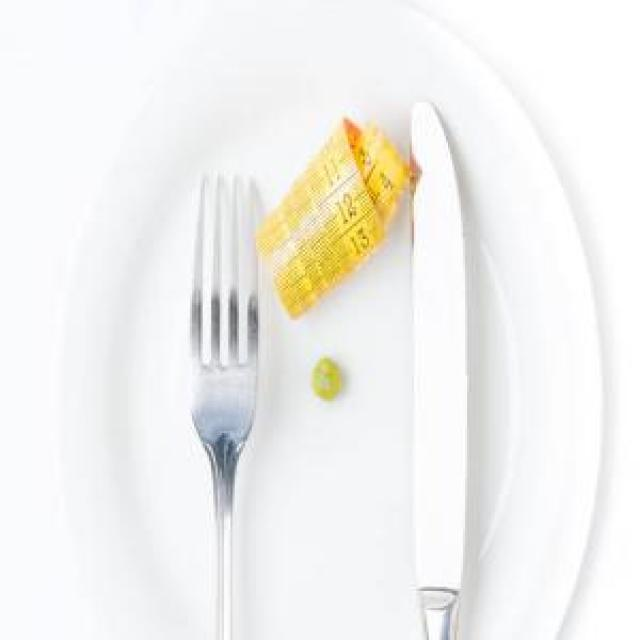knife: (392, 98, 473, 638)
